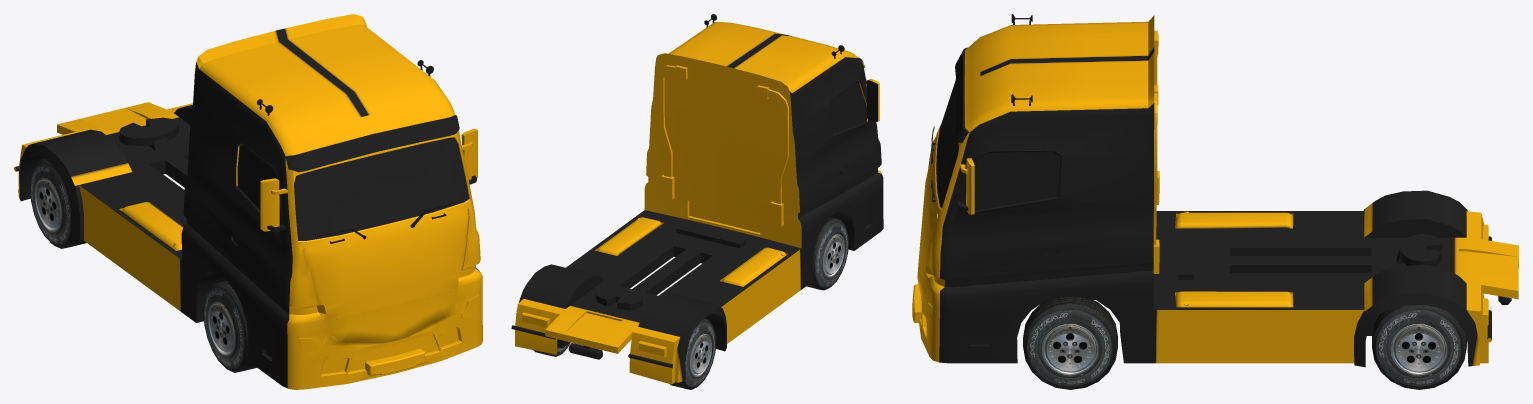
Rendered from Truck 1.FBX.
3 renders of one model, left to right at view 1: azimuth 30°, elevation 25°; view 2: azimuth 150°, elevation 25°; view 3: azimuth 270°, elevation 25°, orthographic. The views are drawn at different scales.
Visible parts, largest first — view 1: Body, Glass, IsuzuTruck, front_right, back_right; view 2: Body, front_right, back_right, Glass, Box010; view 3: Body, front_left, beck_left, Glass, Box010.
Boxes of the visible parts, x1=… form: Body: x1=14, y1=14, x2=482, y2=389; Glass: x1=237, y1=137, x2=469, y2=240; IsuzuTruck: x1=321, y1=202, x2=461, y2=375; front_right: x1=203, y1=280, x2=256, y2=372; back_right: x1=30, y1=159, x2=86, y2=248; Body: x1=511, y1=14, x2=883, y2=384; front_right: x1=806, y1=217, x2=848, y2=290; back_right: x1=670, y1=318, x2=716, y2=389; Glass: x1=829, y1=82, x2=867, y2=134; Box010: x1=676, y1=224, x2=745, y2=248; Body: x1=917, y1=14, x2=1518, y2=367; front_left: x1=1023, y1=296, x2=1117, y2=389; beck_left: x1=1372, y1=305, x2=1466, y2=389; Glass: x1=936, y1=80, x2=1060, y2=210; Box010: x1=1178, y1=234, x2=1193, y2=279.
Size of the model in its own units: 11.77 by 14.93 by 27.88.
